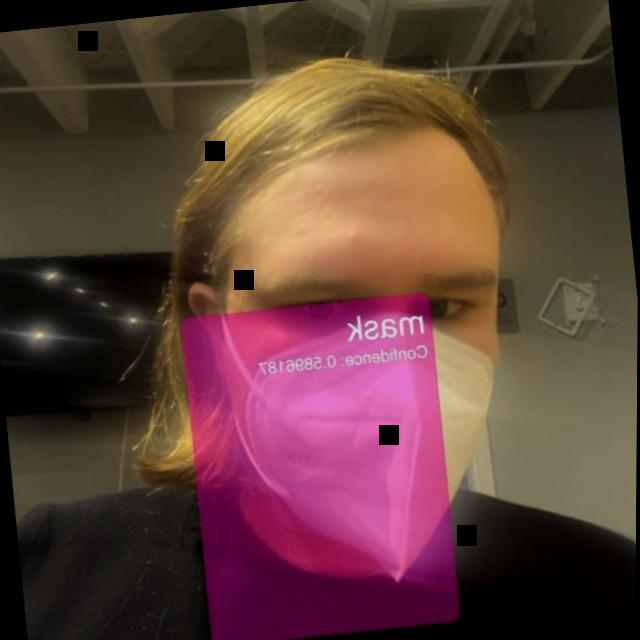Mask: (75, 40, 523, 602)
